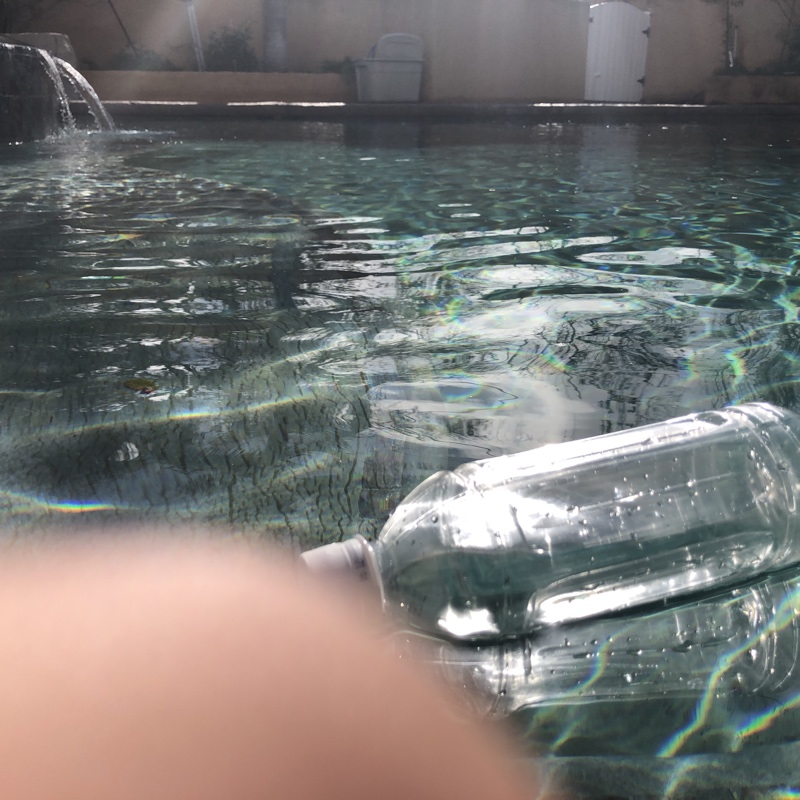Plastic Bottle: (287, 397, 800, 644)
